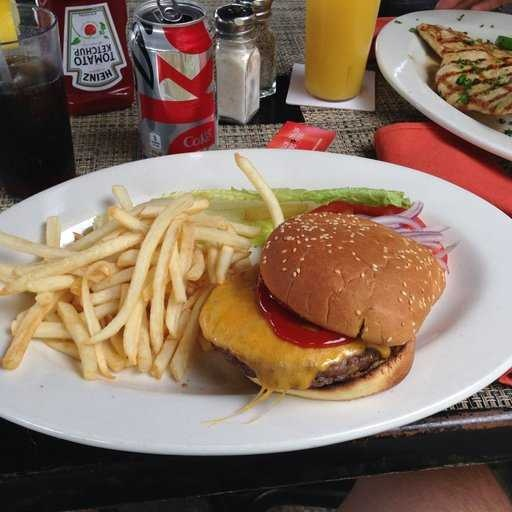hamburger: (188, 203, 446, 427)
